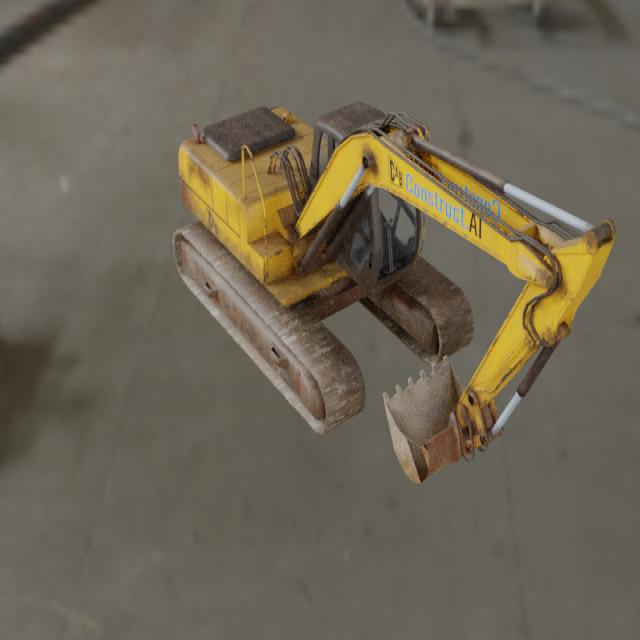excavator: (172, 100, 616, 483)
